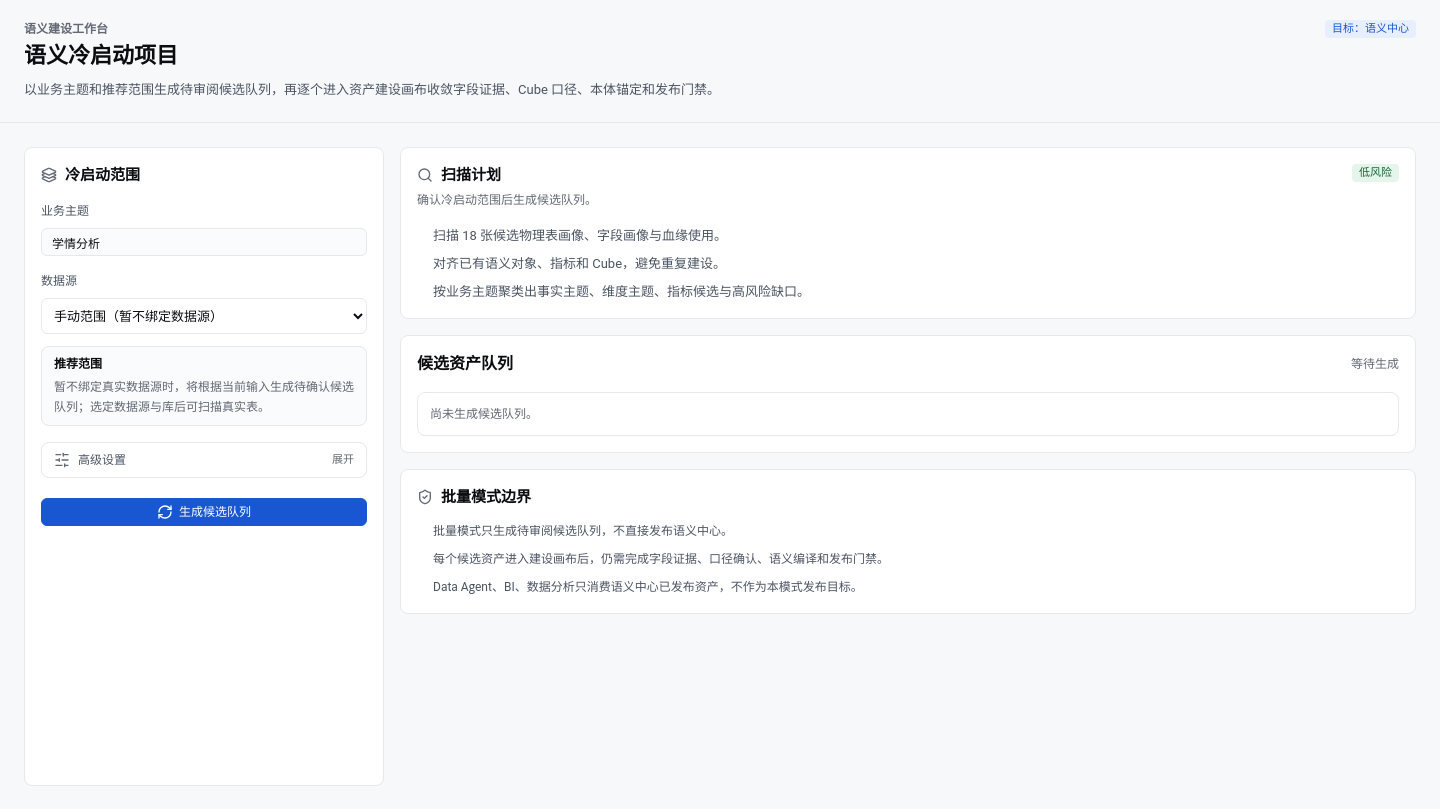
Test: BatchModelingWorkbench › 候选资产操作失败时展示错误反馈
Step 1. Click the button "生成候选队列" → click(204, 512), box [41,498,367,526]
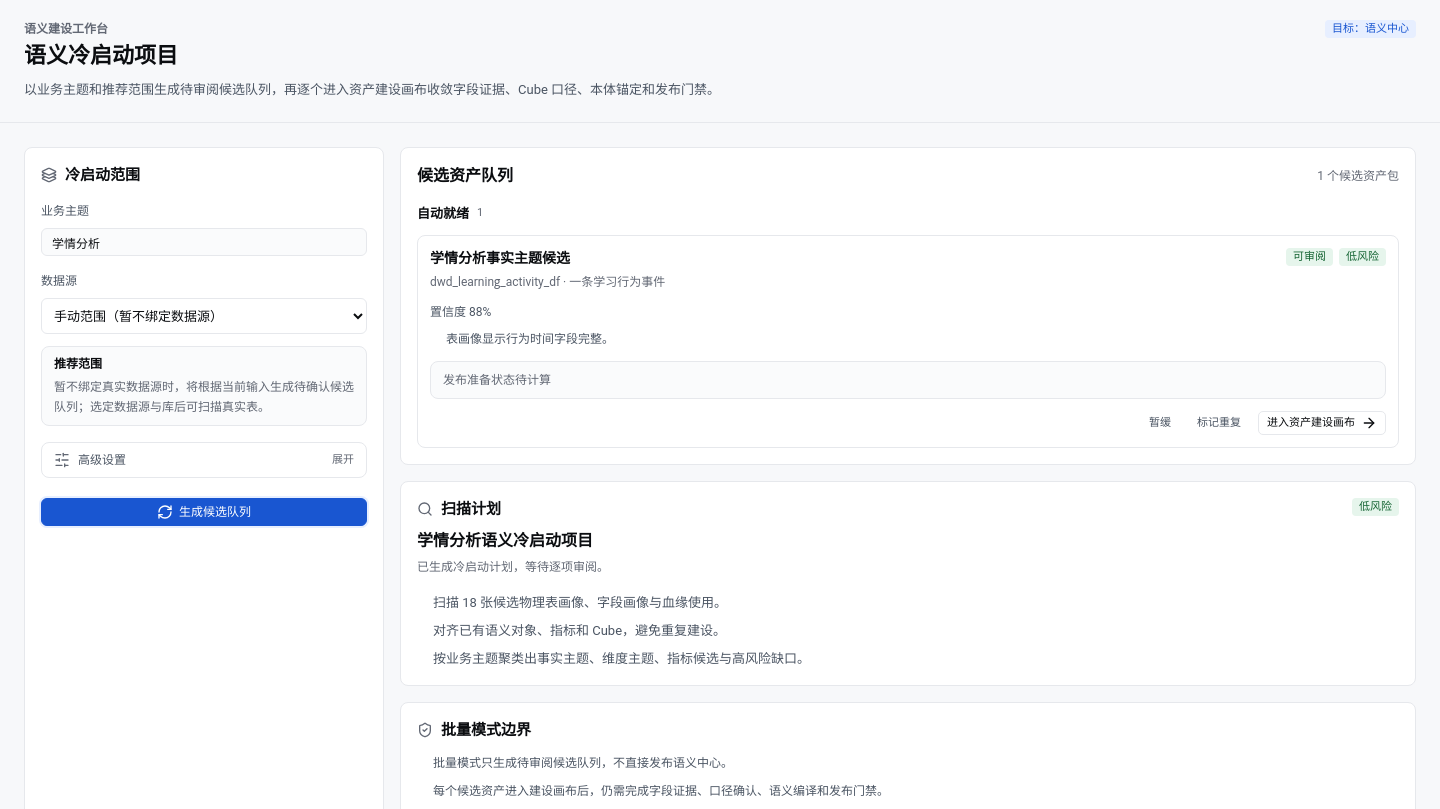
Expected: the heading "学情分析事实主题候选" is shown, [430,250,570,266]
Step 2. Click the button "暂缓" → click(1160, 423), box [1140,411,1180,435]
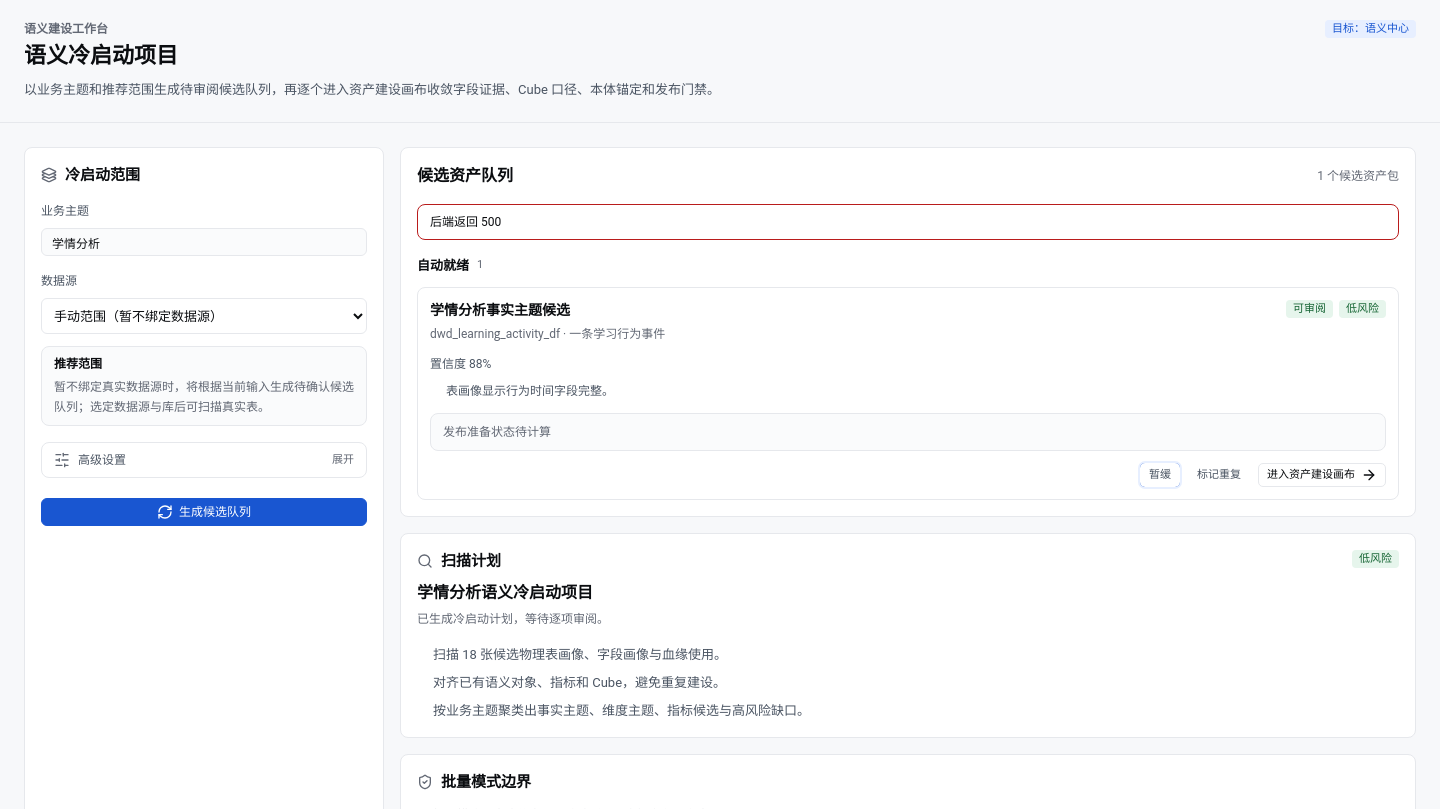
Expected: the text "后端返回 500" is shown, [417,204,1399,240]
